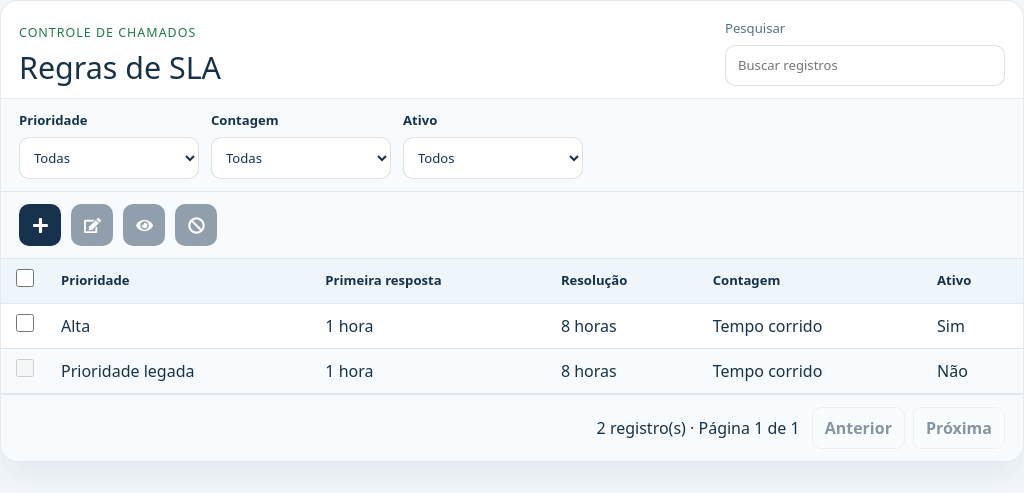
Test: Configurações do Controle de Chamados › impede nova desativação de registros inativos em SLA
This screenshot has width=1024, height=493.
Expected: the cell "Prioridade legada" is shown, x1=49 y1=348 x2=313 y2=393
Expected: the button named "Desativar selecionados. Indisponível: Marque ao menos um registro ativo para desativação." is disabled, x1=175 y1=204 x2=217 y2=246
Click the checkbox named "Selecionar Alta" at (25, 323), box x1=16 y1=314 x2=34 y2=332
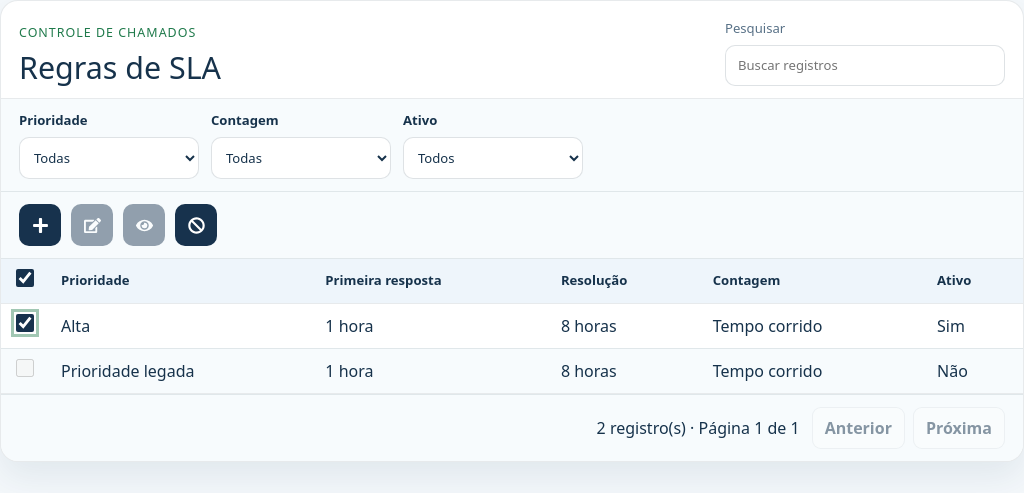
Now the button named "Desativar selecionados" is enabled, box x1=175 y1=204 x2=217 y2=246
